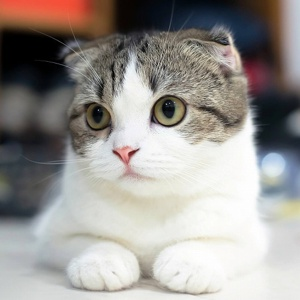cat: (40, 16, 263, 295)
